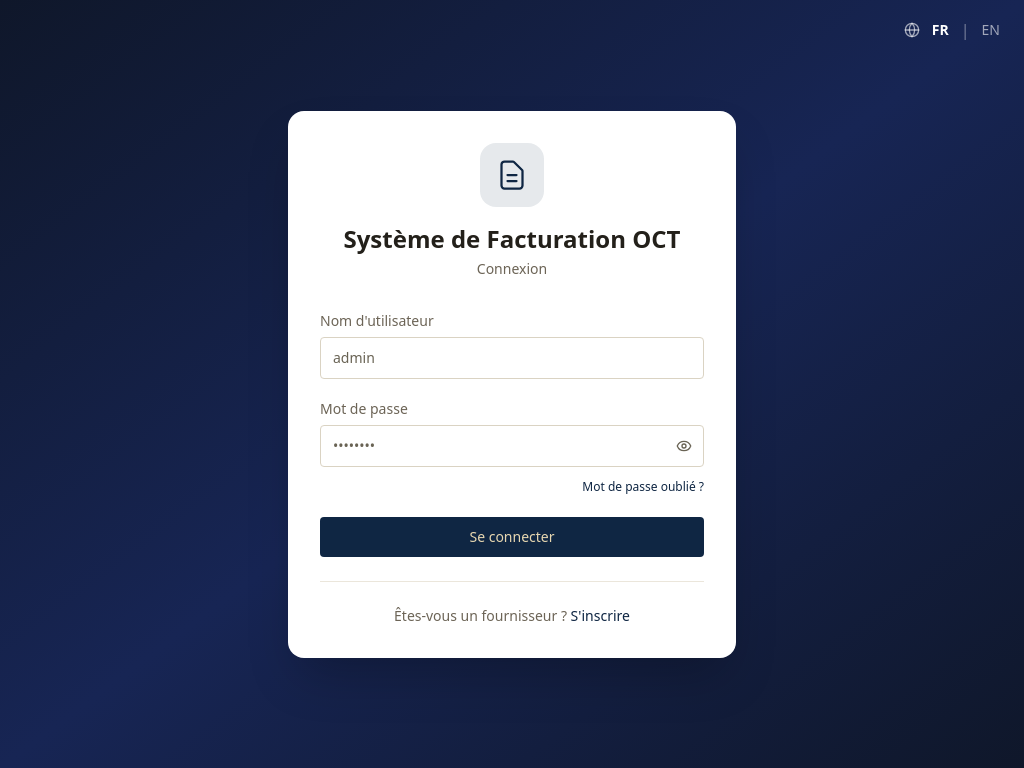
Test: AUDIT-035 — login error messages › keeps the locked-account message on a 423
This screenshot has width=1024, height=768.
Type "aa" into the field labelled "Nom d'utilisateur" at [512, 358], box [320,336,704,378]
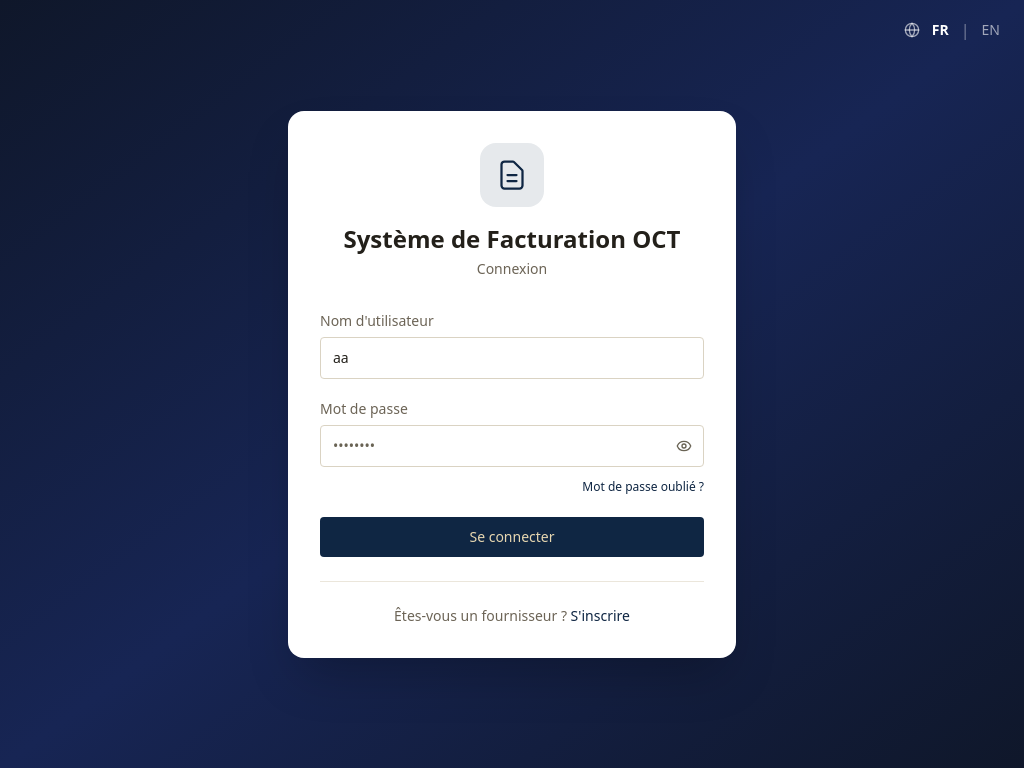
Type "Test1234!" into the password field labelled "Mot de passe" at [512, 446], box [320,424,704,466]
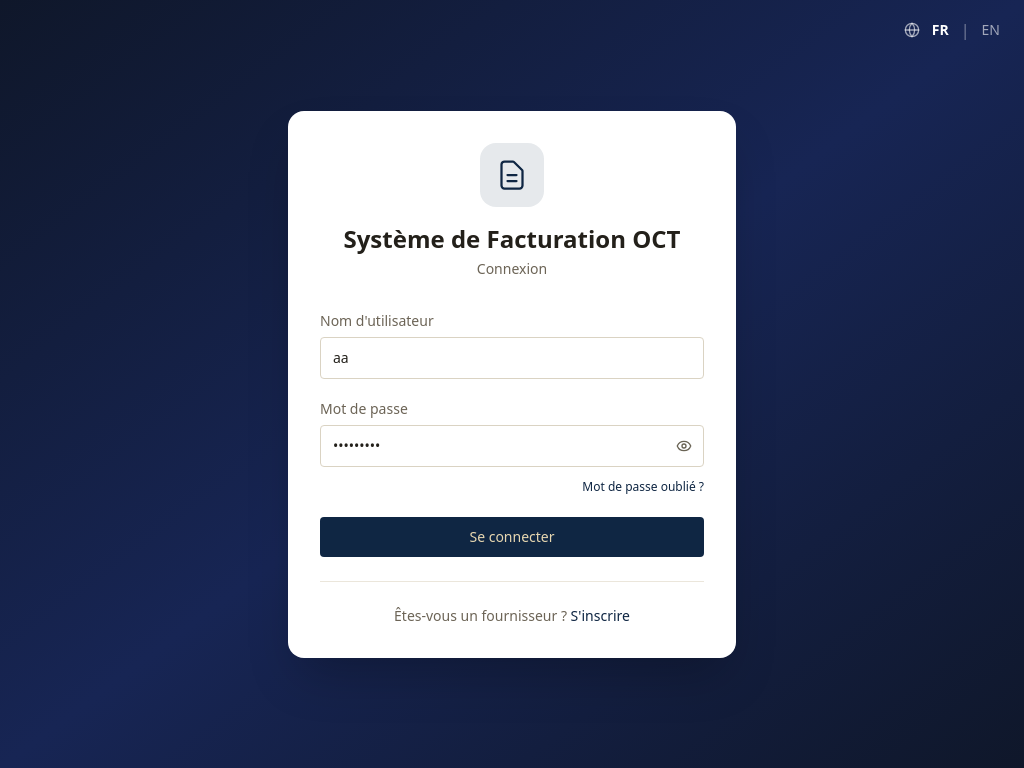
Click the button "Se connecter" at [512, 536], box [320,516,704,556]
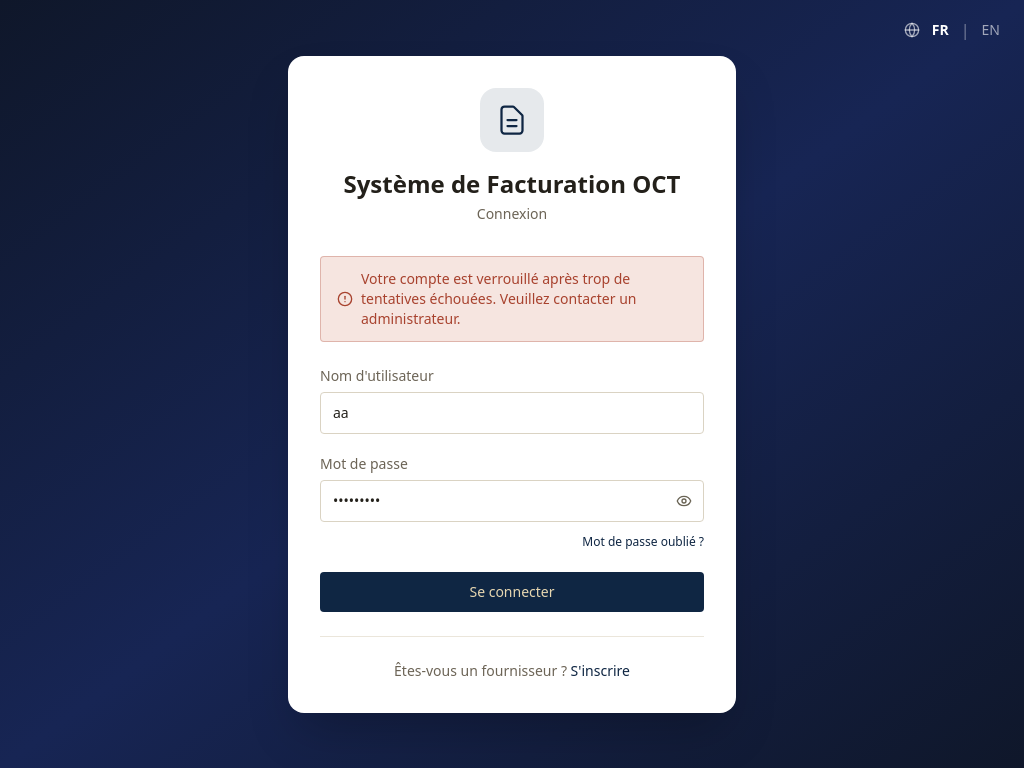
Check: the text "Votre compte est verrouillé après trop de tentatives échouées. Veuillez contacter un administrateur." is shown, box [361,268,636,328]
